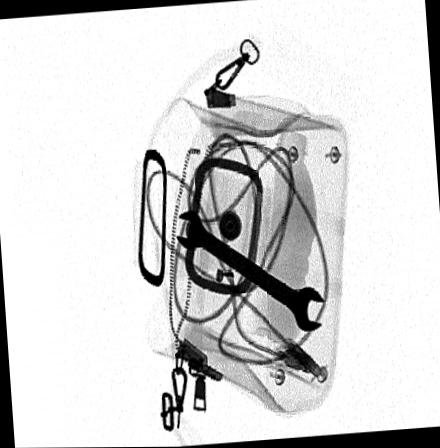Wrench: (174, 208, 326, 331)
